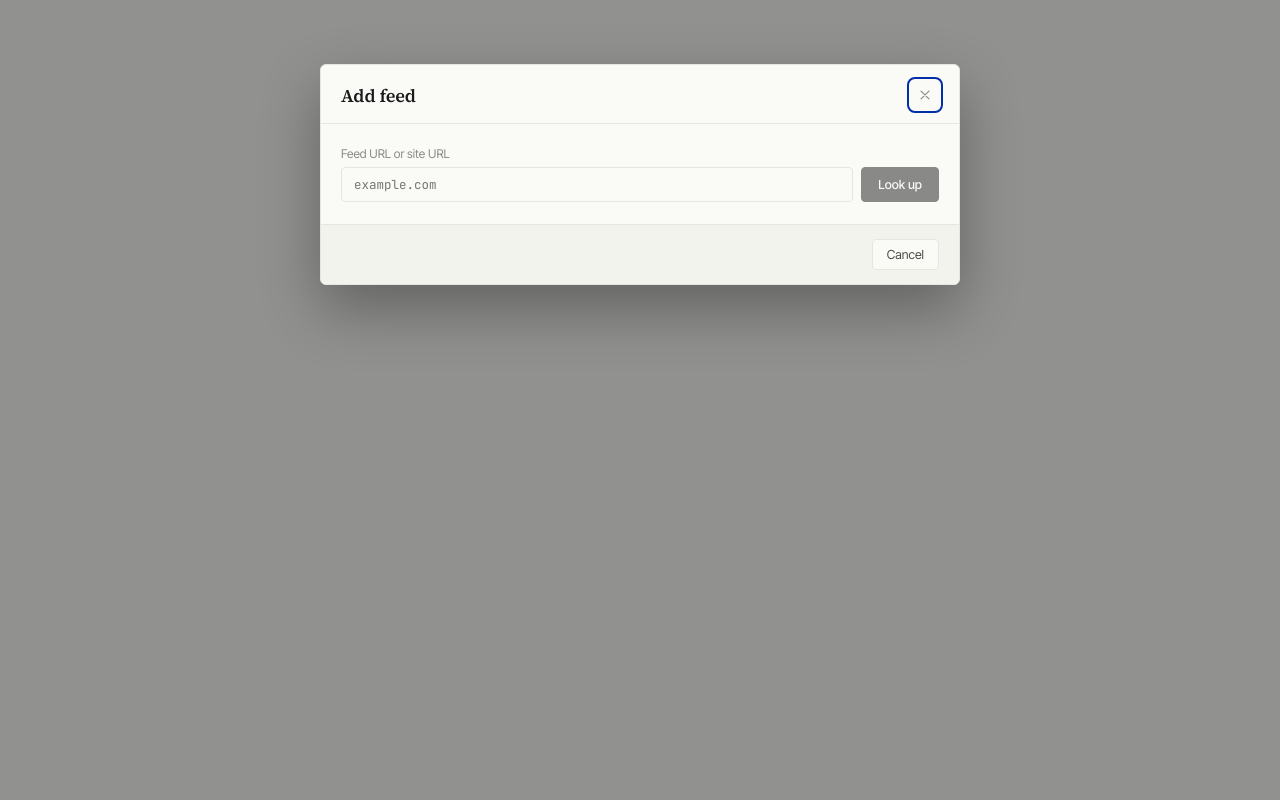
Test: AddFeedDialog — discovery results › one candidate: pre-picks it
Type "https://solo" into the field with placeholder "example.com" at (597, 184), box [341,167,853,202]
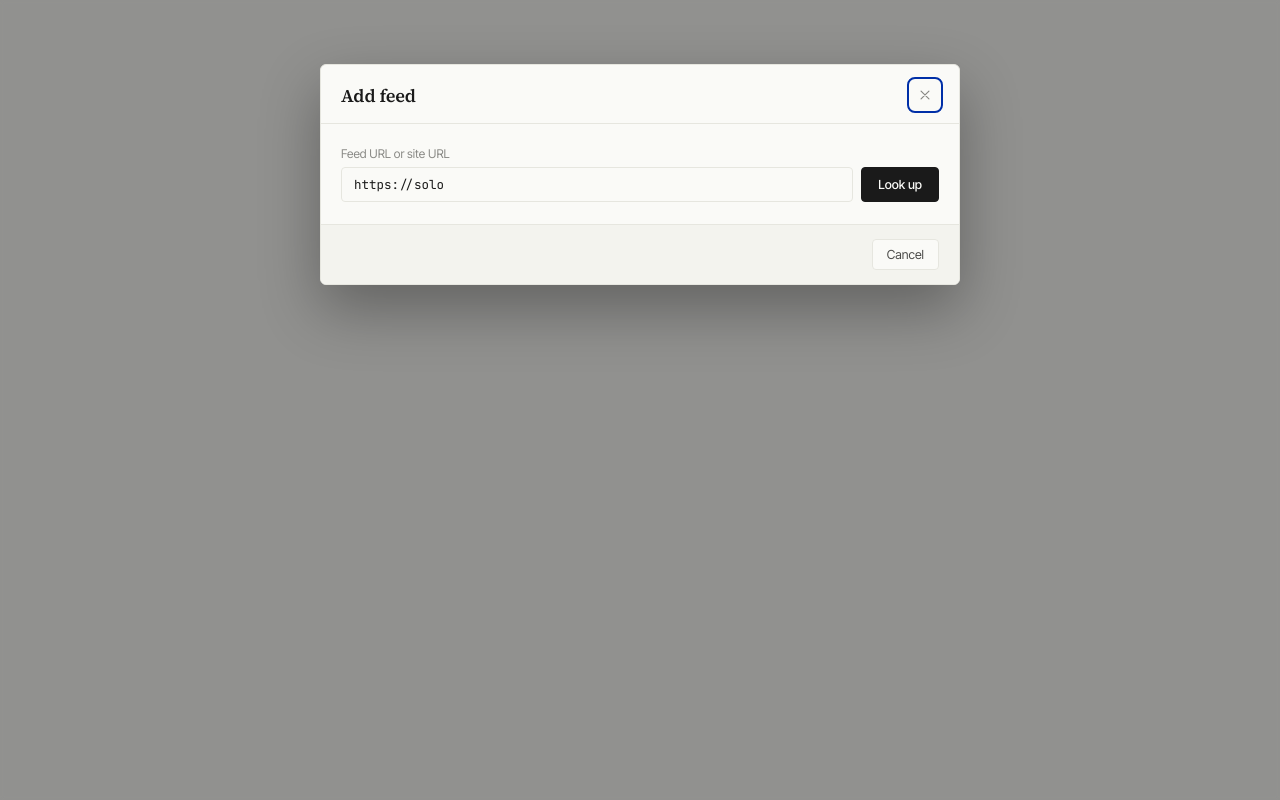
Click the button "Look up" at (900, 184), box [861,167,939,202]
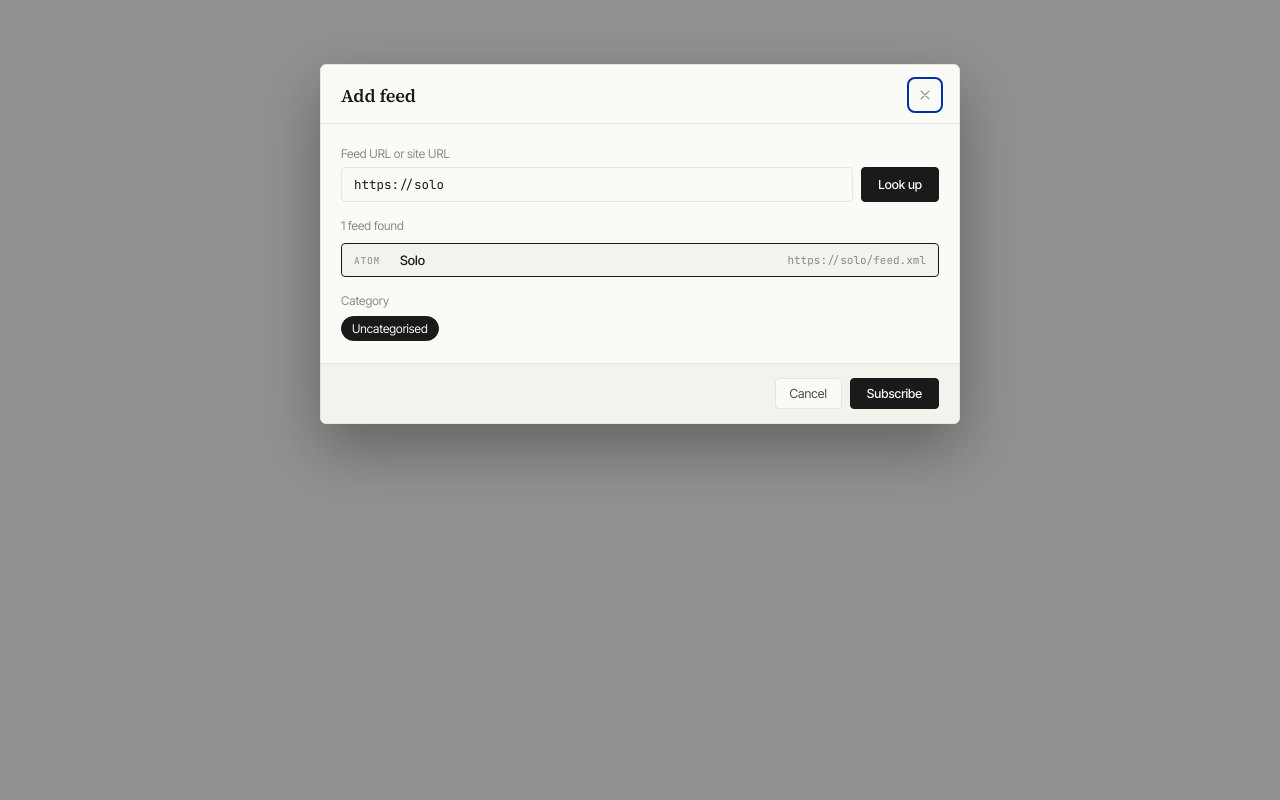
expect the button with class "is-picked" is shown: met, box [341,243,939,277]
